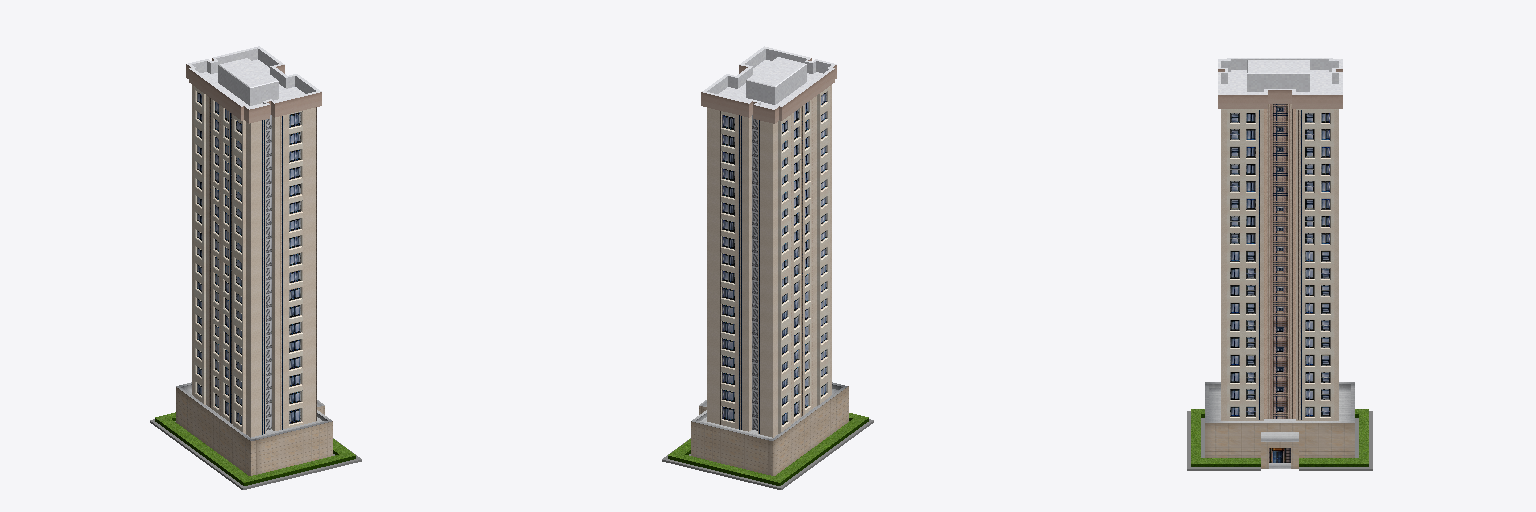
3 renders of one model, left to right at view 1: azimuth 30°, elevation 25°; view 2: azimuth 150°, elevation 25°; view 3: azimuth 270°, elevation 25°, orthographic.
Parts seen in each view (by area): view 1: building_1; view 2: building_1; view 3: building_1.
Boxes of the visible parts, <box> form: building_1: <box>150,46,361,489</box>; building_1: <box>662,46,873,489</box>; building_1: <box>1187,58,1372,470</box>.
Bounding box in the file's own units: 119 × 352 × 160.
Materials: 16 (13 with a texture image).